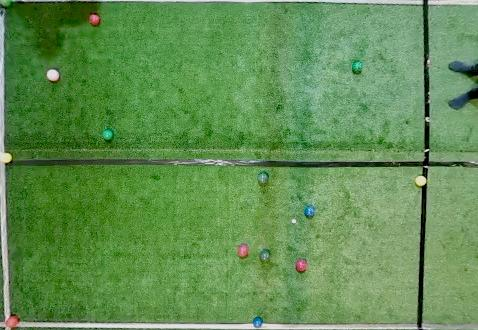blue: (305, 207, 315, 217), (253, 317, 262, 327)
green: (257, 172, 268, 183), (260, 251, 270, 261), (103, 130, 113, 140), (352, 62, 362, 71), (0, 1, 12, 6)
red: (5, 316, 18, 328), (47, 69, 59, 81), (89, 14, 100, 25), (238, 245, 249, 256), (296, 260, 307, 271)
vline: (422, 1, 477, 175), (416, 185, 478, 329), (0, 163, 12, 316), (0, 5, 6, 151)
white: (292, 219, 296, 223)
yellow: (0, 151, 13, 163), (415, 176, 426, 186)
